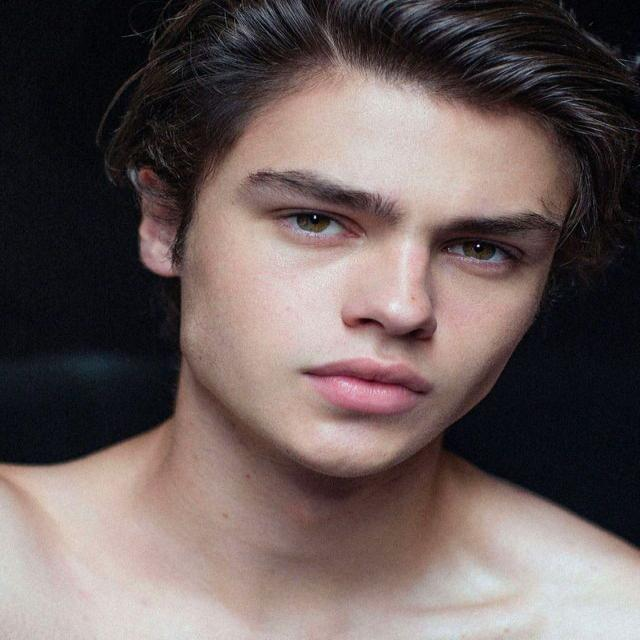front: (212, 142, 548, 449)
